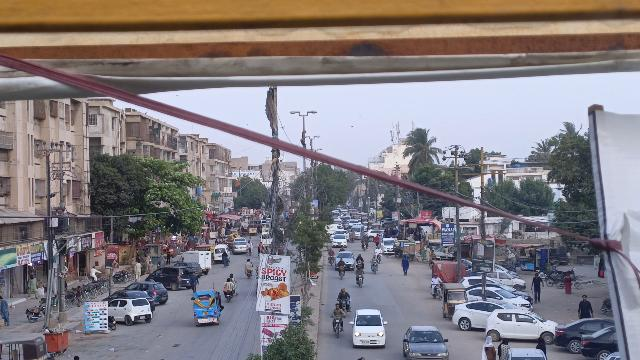Bike: (331, 315, 345, 338), (337, 298, 351, 315), (431, 284, 443, 300), (336, 266, 348, 281), (356, 274, 365, 289), (223, 290, 233, 303)
Car: (485, 306, 555, 343), (401, 324, 450, 360), (451, 298, 505, 330), (553, 318, 603, 352), (348, 308, 388, 349), (106, 298, 153, 327), (580, 324, 618, 358), (126, 280, 170, 307), (146, 266, 192, 288)
Person: (574, 291, 595, 318), (529, 272, 546, 305), (480, 334, 496, 360), (496, 335, 511, 360), (399, 253, 412, 277), (188, 271, 200, 292), (331, 302, 345, 318), (337, 285, 351, 300), (535, 335, 547, 351), (429, 272, 442, 285), (223, 277, 235, 291), (354, 263, 367, 275), (336, 257, 347, 269)
Rickshaw: (191, 288, 224, 327), (439, 281, 467, 321)
Truck: (179, 249, 212, 271)
